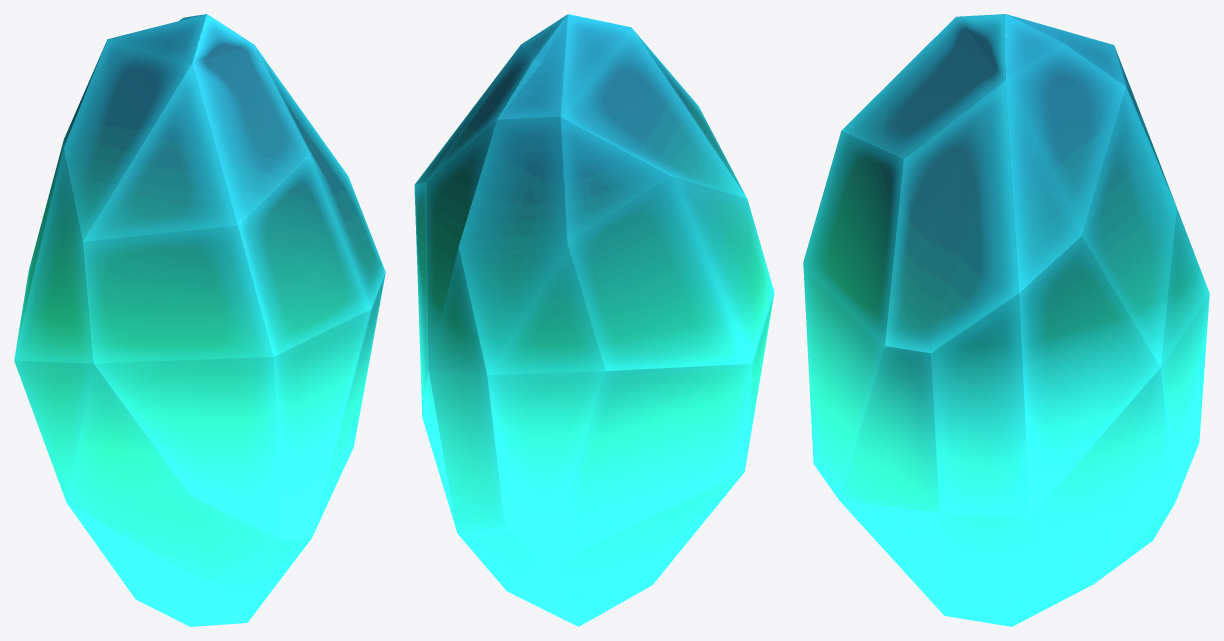
The model's file is crystal_effect_blue.fbx.
3 views of the same model, side by side, from view 1: azimuth 30°, elevation 25°; view 2: azimuth 150°, elevation 25°; view 3: azimuth 270°, elevation 25° (orthographic). The views are drawn at different scales.
Parts seen in each view (by area): view 1: crystal_effect_blue; view 2: crystal_effect_blue; view 3: crystal_effect_blue.
Boxes of the visible parts, x1,y1,x2,y2 form: crystal_effect_blue: [14, 14, 385, 626]; crystal_effect_blue: [414, 14, 774, 626]; crystal_effect_blue: [803, 14, 1209, 626].
Bounding box in the file's own units: 3.13 × 5.43 × 3.23.
